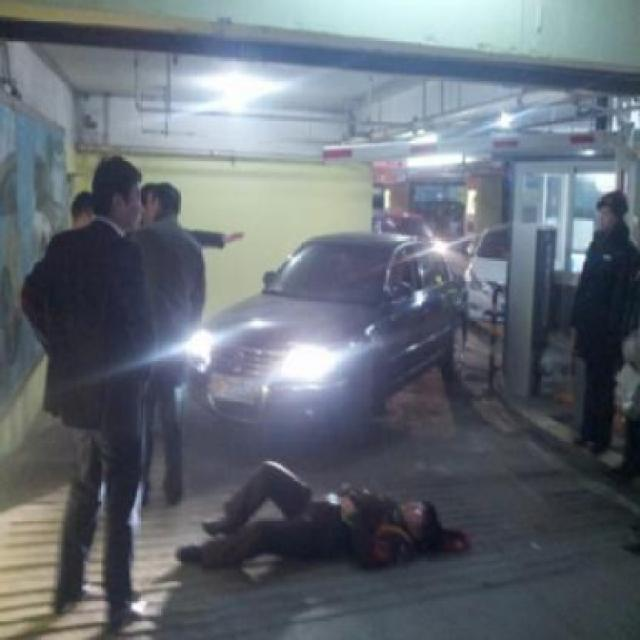fall: (162, 447, 464, 584)
